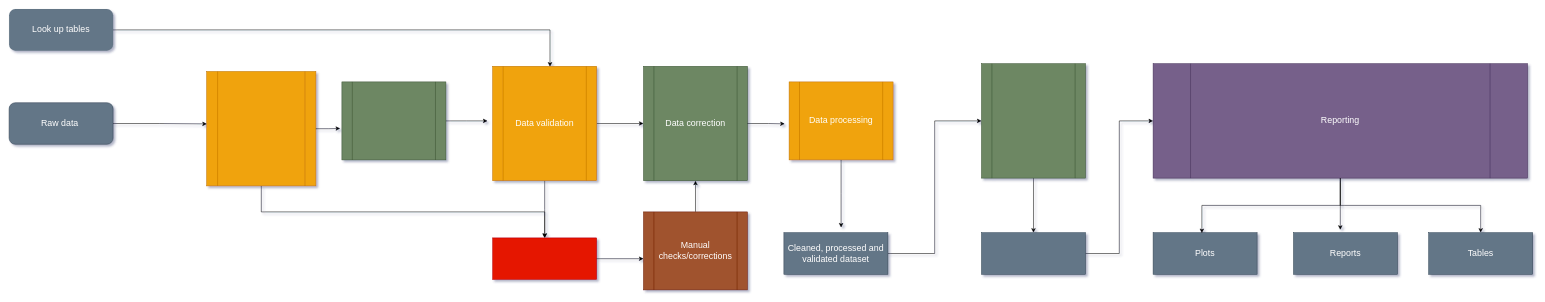
Image size: 1545x302. Some labels were removed from this diagram. The centre of each missing label's shape, as x and y in pixels:
"Data analysis" goes at [1033,120].
"Data cleaning" goes at [393,120].
"Output tables" goes at [1033,253].
"Preprocessing data validation" goes at [261,128].
"Validation fails" goes at [544,258].
